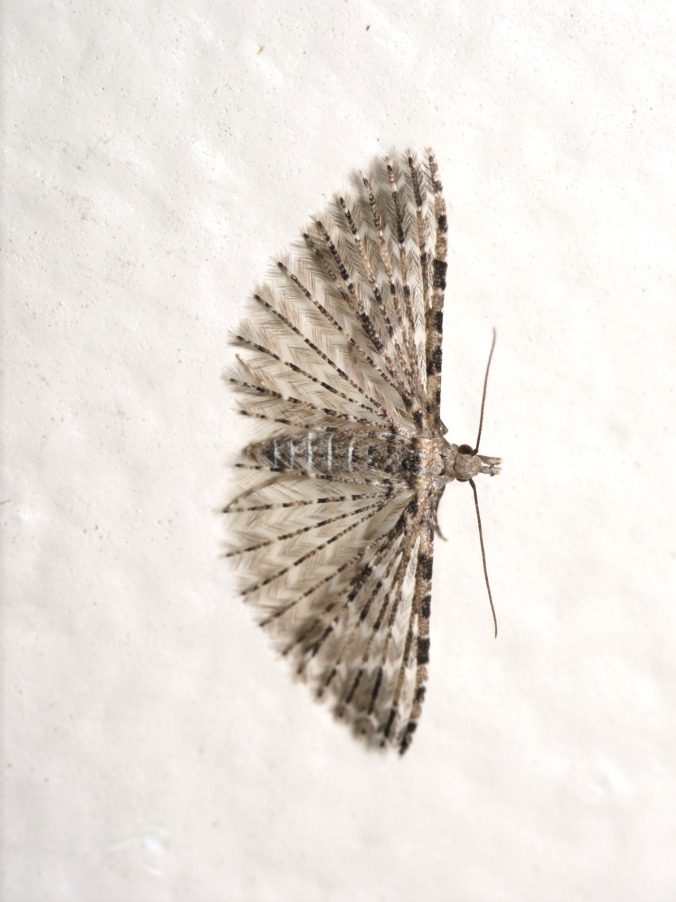Alucitidae: (214, 140, 509, 767)
moth: (212, 138, 507, 765)
